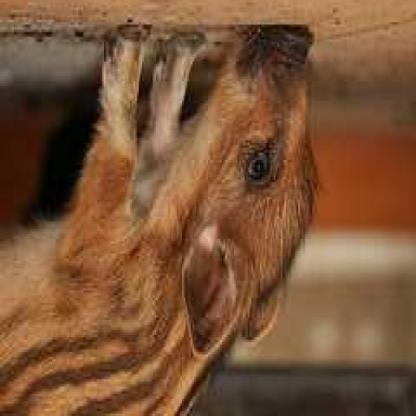boar: (0, 1, 342, 416)
